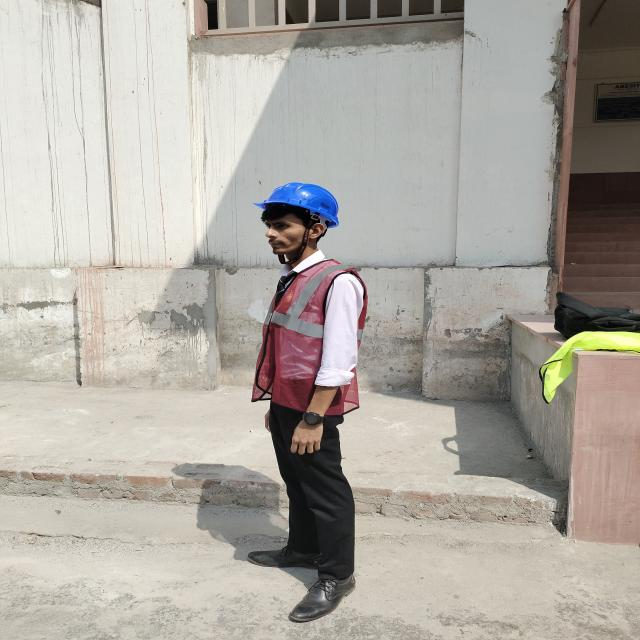safe: (252, 182, 367, 621)
